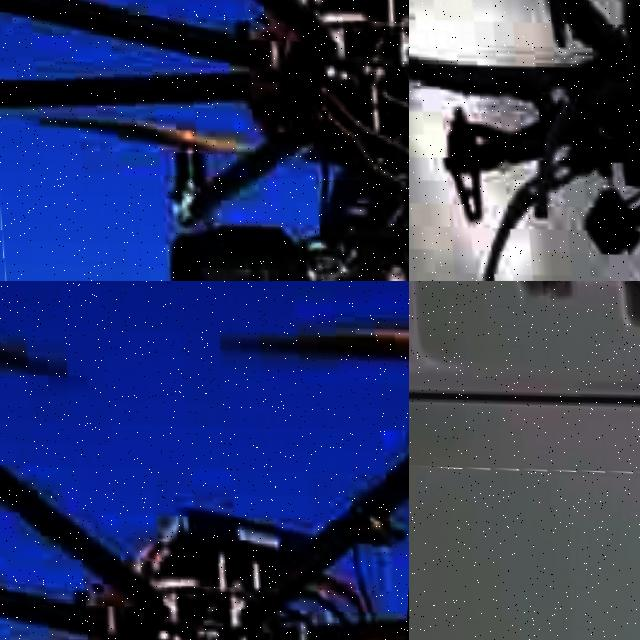drone: (0, 281, 409, 640), (0, 0, 409, 281), (409, 0, 640, 281), (409, 281, 640, 485)
